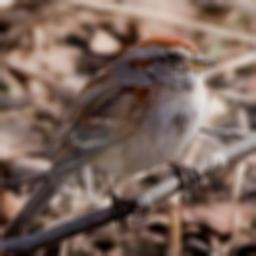Sparrow: (0, 30, 219, 256)
